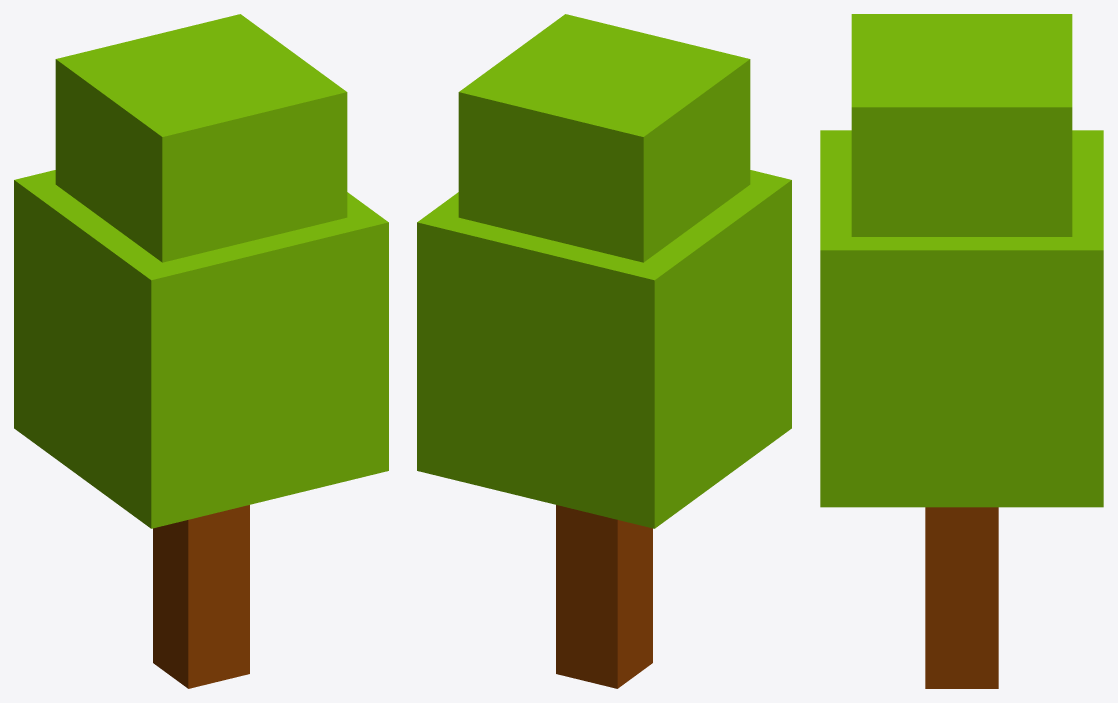
File: tree.glb
3 renders of one model, left to right at view 1: azimuth 30°, elevation 25°; view 2: azimuth 150°, elevation 25°; view 3: azimuth 270°, elevation 25°, orthographic. The views are drawn at different scales.
Visible parts, largest first — view 1: cube.001; view 2: cube.001; view 3: cube.001.
Boxes of the visible parts, x1=… form: cube.001: x1=14, y1=14, x2=388, y2=688; cube.001: x1=417, y1=14, x2=791, y2=688; cube.001: x1=820, y1=14, x2=1103, y2=688.
Size of the model in its own units: 1.25 by 2.98 by 1.25.
